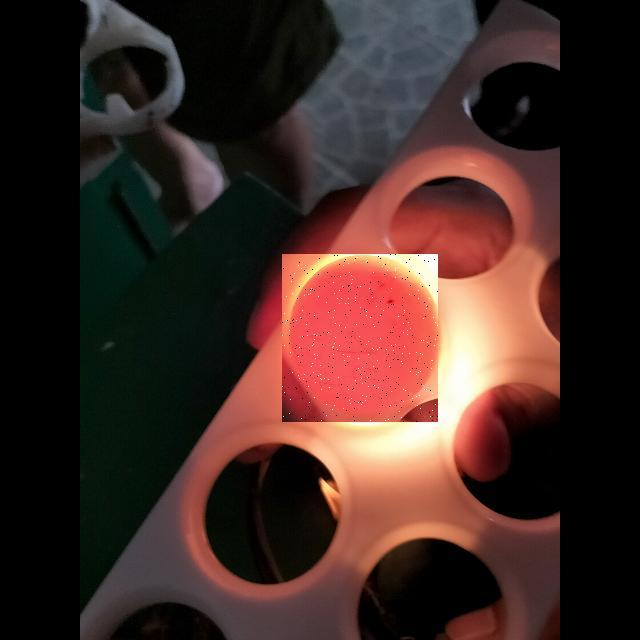Infertile: (282, 254, 438, 422)
